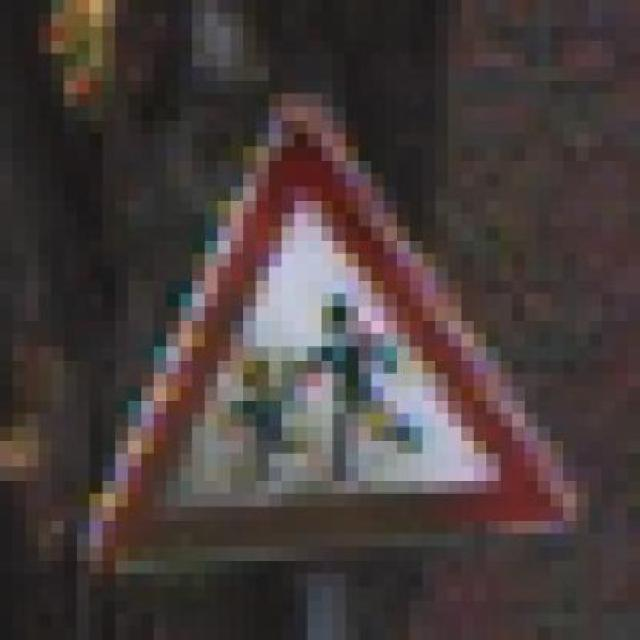Beware of children: (69, 66, 582, 600)
